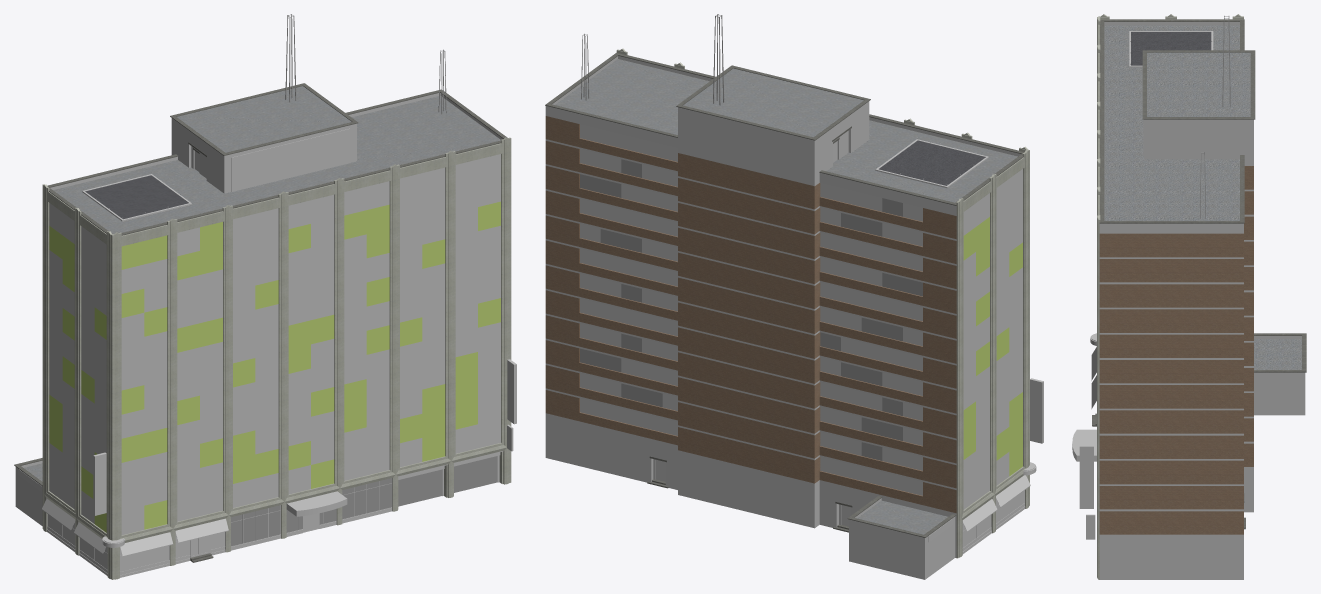
The model's file is mcp_building_07_LOD_1_2.FBX.
The picture shows the model from 3 angles, left to right: view 1: azimuth 30°, elevation 25°; view 2: azimuth 150°, elevation 25°; view 3: azimuth 270°, elevation 25°; orthographic projection. The views are drawn at different scales.
Visible parts, largest first — view 1: mcp_building_07_windows, mcp_building_07_03, mcp_building_07_roof, mcp_building_07_01, mcp_building_07_02, mcp_building_07_concrete, mcp_building_07_glass, mcp_building_07_props_03, mcp_building_07_helipad_concrete; view 2: mcp_building_07_02, mcp_building_07_01, mcp_building_07_roof, mcp_building_07_windows, mcp_building_07_03, mcp_building_07_concrete, mcp_building_07_helipad_concrete, mcp_building_07_props_03; view 3: mcp_building_07_02, mcp_building_07_roof, mcp_building_07_concrete, mcp_building_07_01, mcp_building_07_03, mcp_building_07_helipad_concrete, mcp_building_07_props_03.
Boxes of the visible parts, <box> form: mcp_building_07_windows: <box>49,154,500,534</box>; mcp_building_07_03: <box>42,137,511,579</box>; mcp_building_07_roof: <box>24,86,500,481</box>; mcp_building_07_01: <box>18,128,516,577</box>; mcp_building_07_02: <box>15,93,503,525</box>; mcp_building_07_concrete: <box>14,83,507,562</box>; mcp_building_07_glass: <box>231,478,391,546</box>; mcp_building_07_props_03: <box>285,14,497,506</box>; mcp_building_07_helipad_concrete: <box>85,175,188,219</box>; mcp_building_07_02: <box>545,56,1020,579</box>; mcp_building_07_01: <box>580,124,1043,554</box>; mcp_building_07_roof: <box>555,59,1017,534</box>; mcp_building_07_windows: <box>963,169,1022,509</box>; mcp_building_07_03: <box>616,48,1029,558</box>; mcp_building_07_concrete: <box>545,52,1023,537</box>; mcp_building_07_helipad_concrete: <box>879,140,985,185</box>; mcp_building_07_props_03: <box>581,14,724,105</box>; mcp_building_07_02: <box>1099,22,1305,579</box>; mcp_building_07_roof: <box>1104,25,1301,369</box>; mcp_building_07_concrete: <box>1092,19,1306,529</box>; mcp_building_07_01: <box>1072,119,1143,539</box>; mcp_building_07_03: <box>1097,14,1243,579</box>; mcp_building_07_helipad_concrete: <box>1131,32,1211,65</box>; mcp_building_07_props_03: <box>1200,15,1230,218</box>.
Size of the model in its own units: 6478 by 6878 by 3029.
